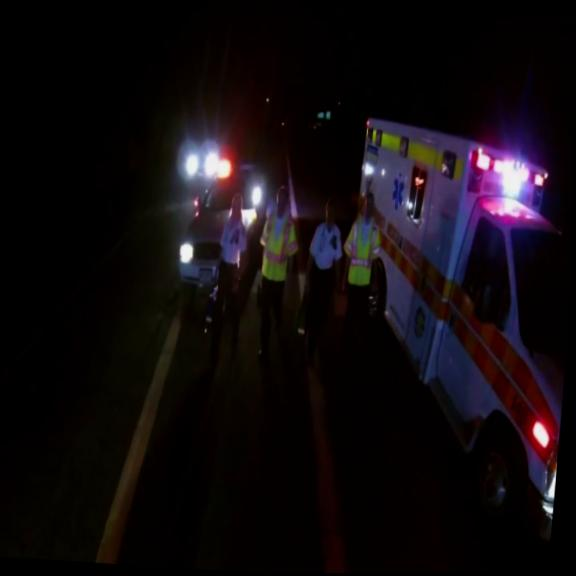safety_vest: (260, 206, 294, 284), (346, 213, 378, 287)
